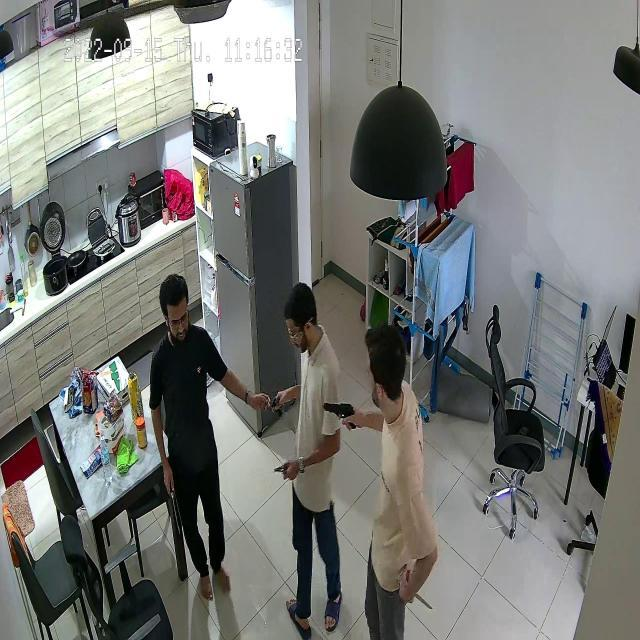Gun: (315, 391, 359, 432)
